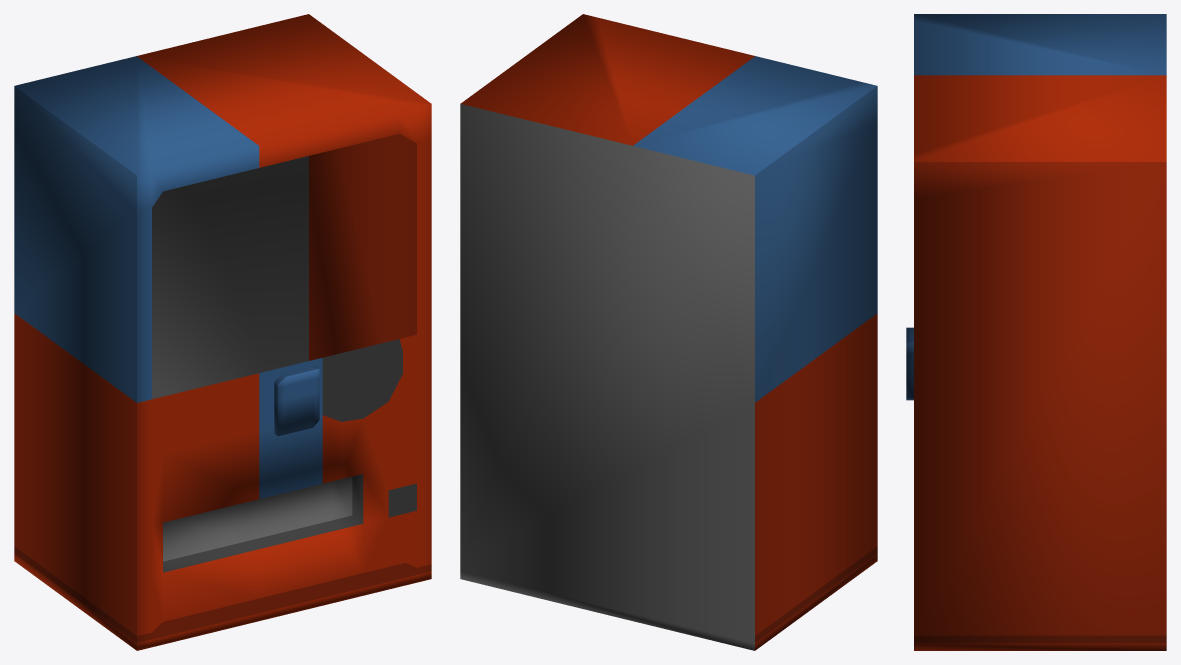
3 views of the same model, side by side, from view 1: azimuth 30°, elevation 25°; view 2: azimuth 150°, elevation 25°; view 3: azimuth 270°, elevation 25° (orthographic). The views are drawn at different scales.
Visible parts, largest first — view 1: color.009; view 2: color.009; view 3: color.009.
Part boxes in pixels (x1,y1,x2,y2): color.009: (14,14,431,650); color.009: (460,14,877,650); color.009: (906,14,1166,650).
Bounding box in the file's own units: 0.3242 × 0.5 × 0.241.
